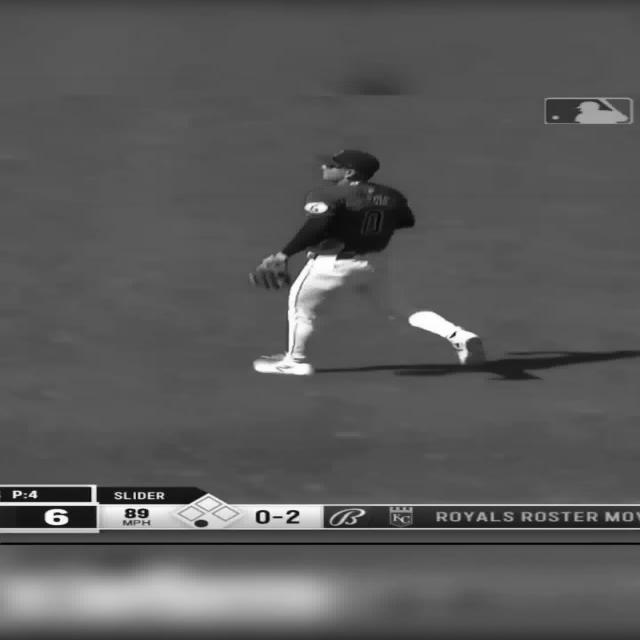baseball_glove: (248, 253, 290, 290)
shoe: (446, 326, 484, 365), (252, 354, 314, 375)
